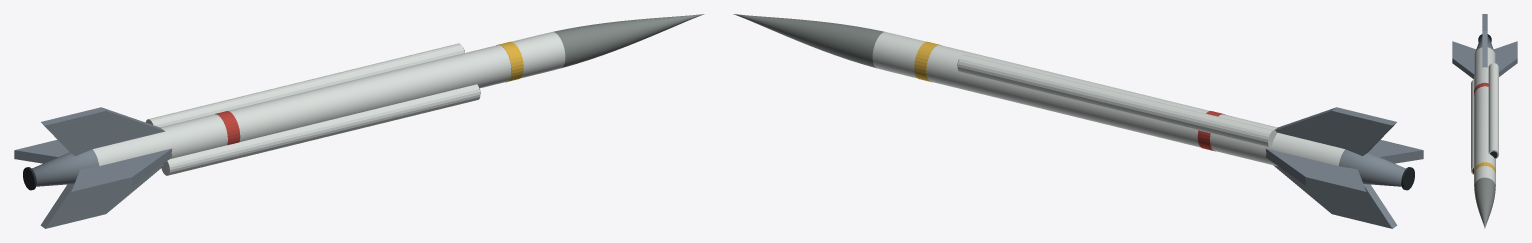
The model's file is meteor_aam.glb.
3 renders of one model, left to right at view 1: azimuth 30°, elevation 25°; view 2: azimuth 150°, elevation 25°; view 3: azimuth 270°, elevation 25°, orthographic. The views are drawn at different scales.
Parts seen in each view (by area): view 1: meteor_aam; view 2: meteor_aam; view 3: meteor_aam.
Boxes of the visible parts, x1,y1,x2,y2 form: meteor_aam: (14,14,704,228); meteor_aam: (733,14,1423,228); meteor_aam: (1452,14,1517,228).
Size of the model in its own units: 10 by 1.46 by 1.46.
